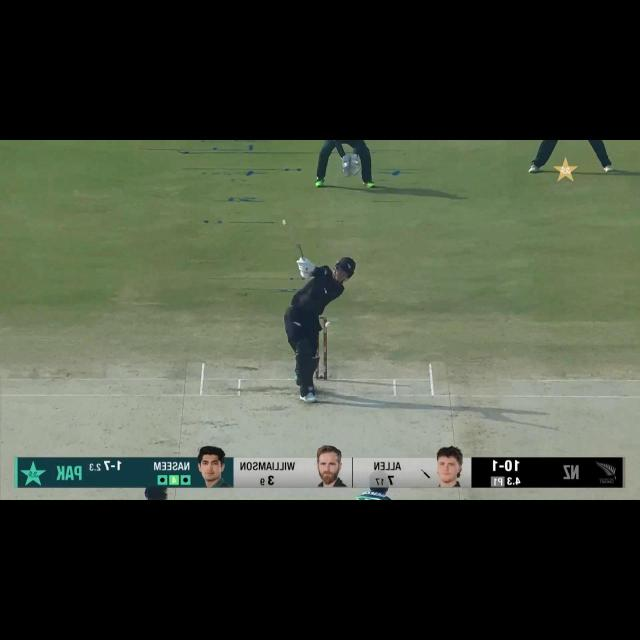bat: (294, 238, 305, 260)
